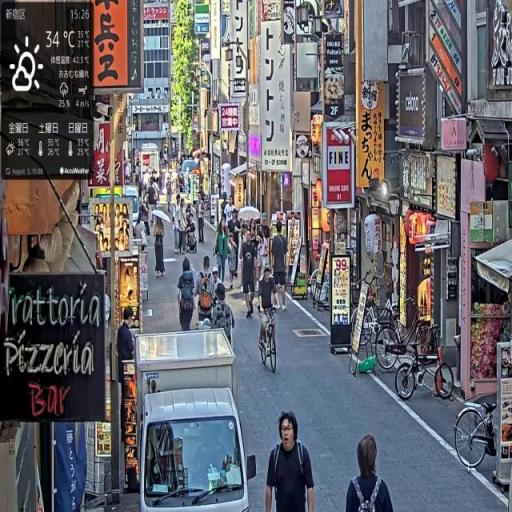person: (267, 411, 317, 512), (344, 432, 396, 512), (257, 264, 283, 362), (271, 220, 290, 312), (241, 229, 260, 320), (215, 219, 230, 288), (154, 213, 167, 279), (197, 192, 207, 245)
